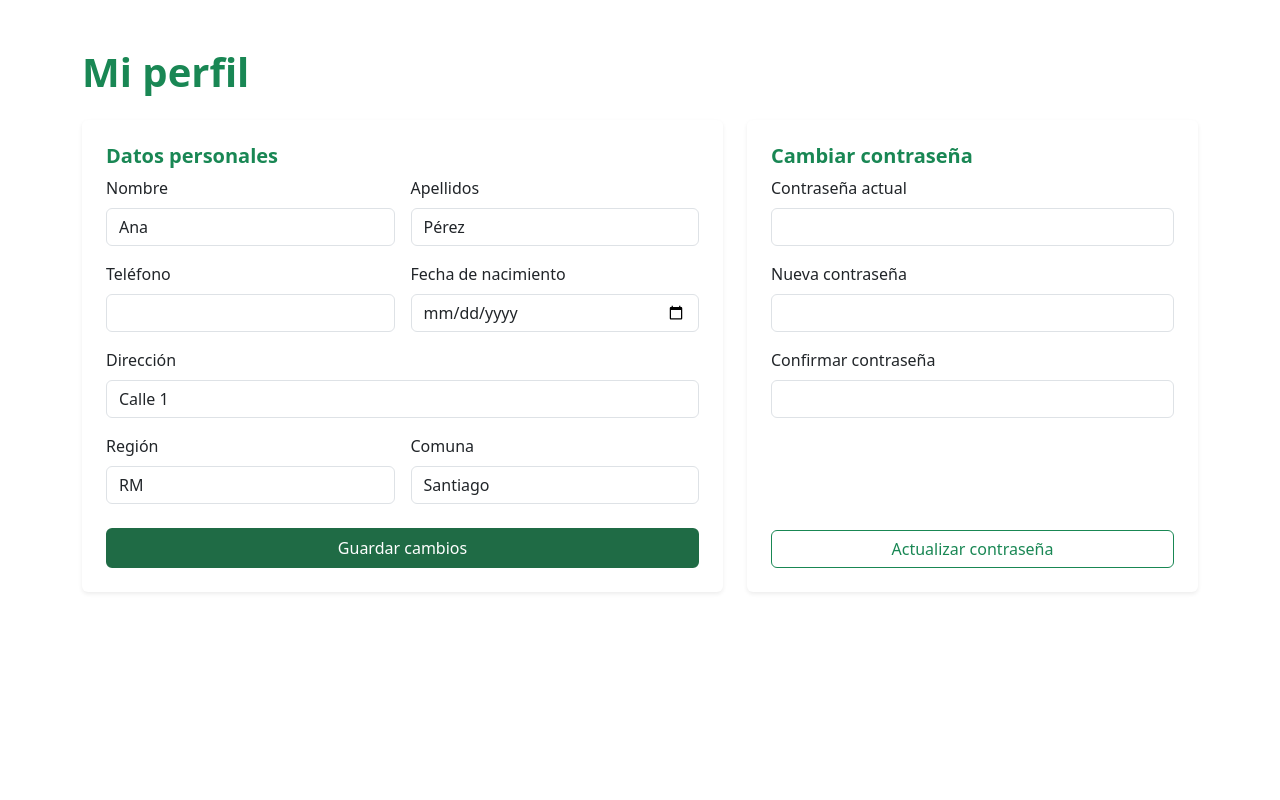
it: ProfilePage › informa errores al guardar el perfil
Check: the field labelled "Nombre" is shown, box [106,208,394,246]
Click the button "Guardar cambios": (402, 548) [106,528,699,568]
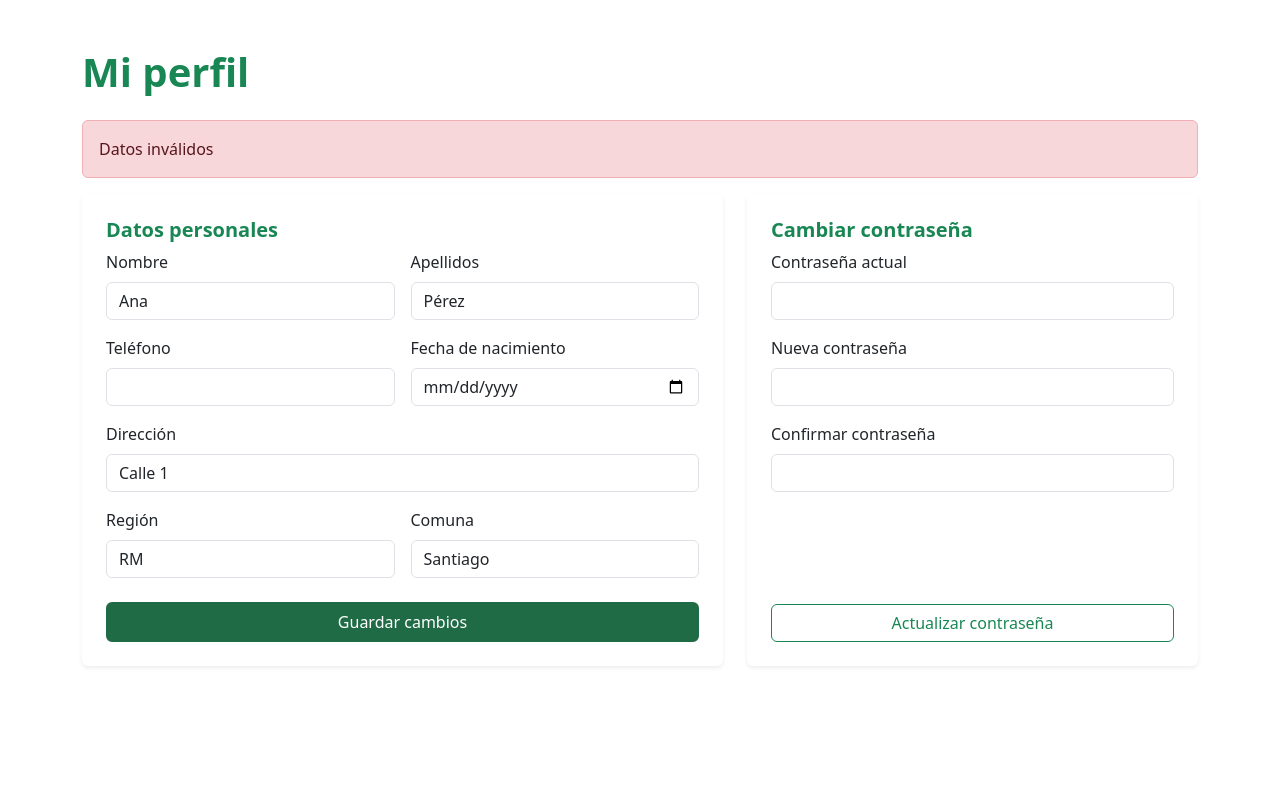
Check: the text "Datos inválidos" is shown, box [82,120,1198,178]
